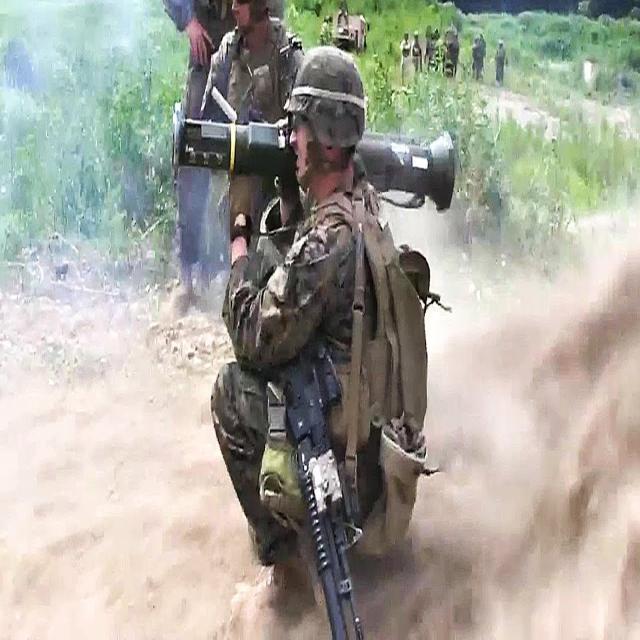bazooka: (169, 105, 458, 212)
